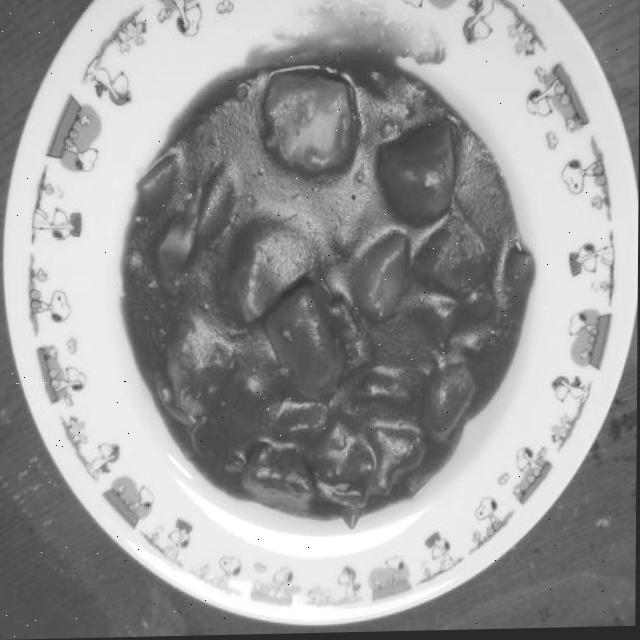汤锅炖物: (4, 0, 638, 640)
